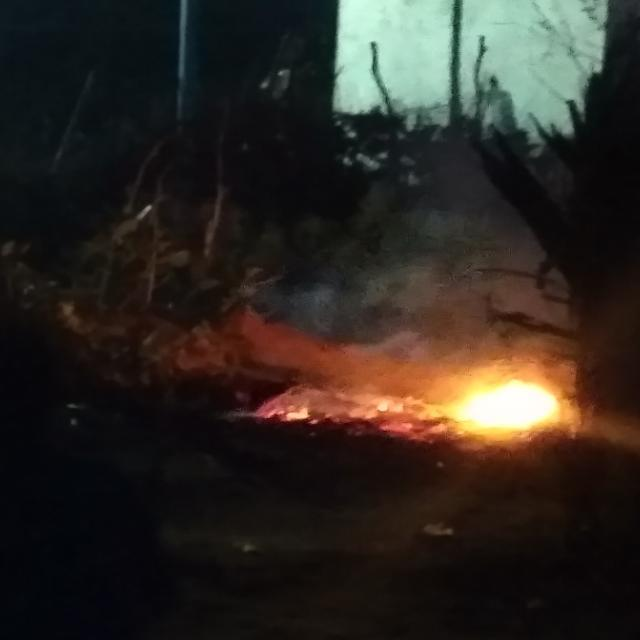Fire: (454, 376, 564, 432)
